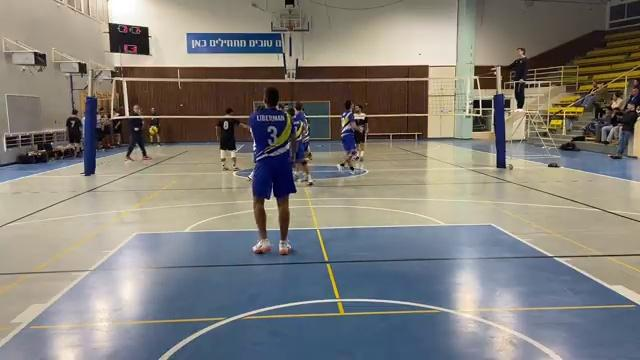ball: (149, 124, 161, 136)
